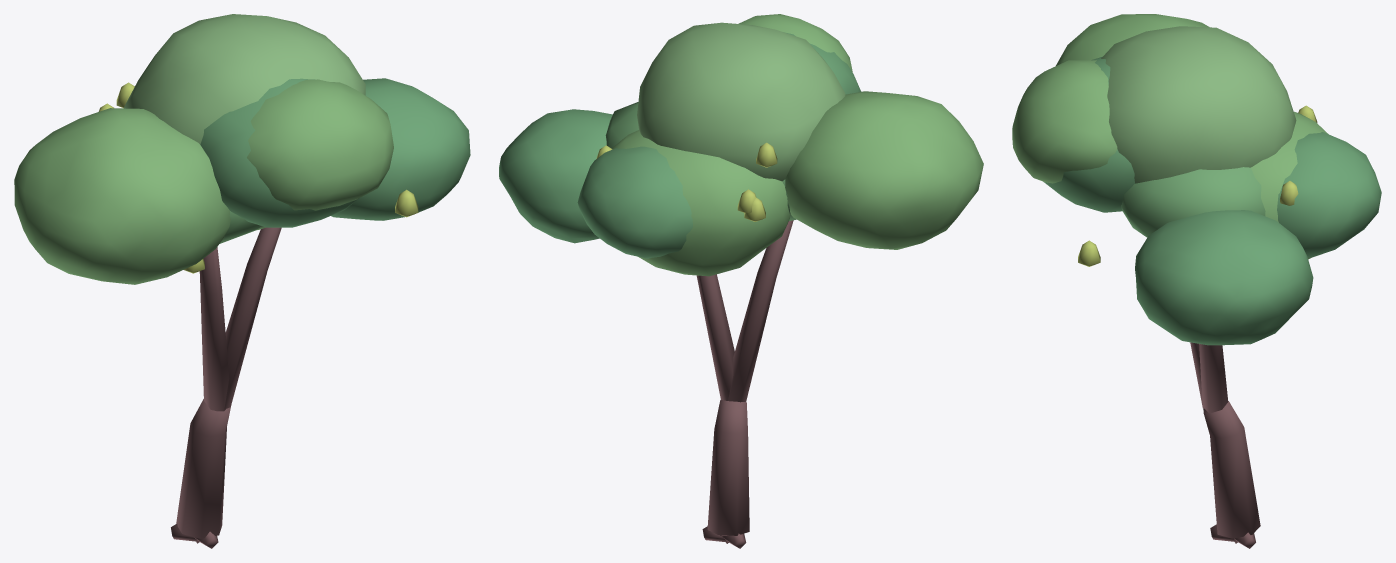
The model's file is pear_tree_b2.glb.
3 renders of one model, left to right at view 1: azimuth 30°, elevation 25°; view 2: azimuth 150°, elevation 25°; view 3: azimuth 270°, elevation 25°, orthographic. The views are drawn at different scales.
Parts seen in each view (by area): view 1: pear_tree_b2; view 2: pear_tree_b2; view 3: pear_tree_b2.
Part boxes in pixels (<box>): pear_tree_b2: <box>14,14,470,548</box>; pear_tree_b2: <box>499,14,983,548</box>; pear_tree_b2: <box>1012,14,1381,548</box>.
Size of what is drawn, in the model's own units: 6.35 by 7 by 4.6.
